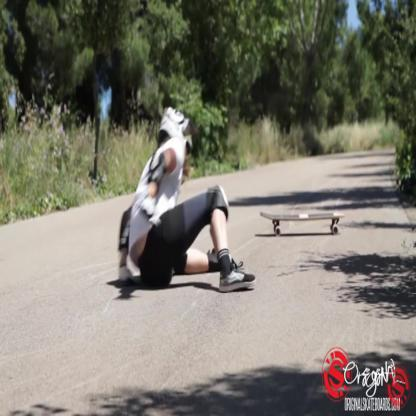Fall_Down: (117, 106, 259, 295)
